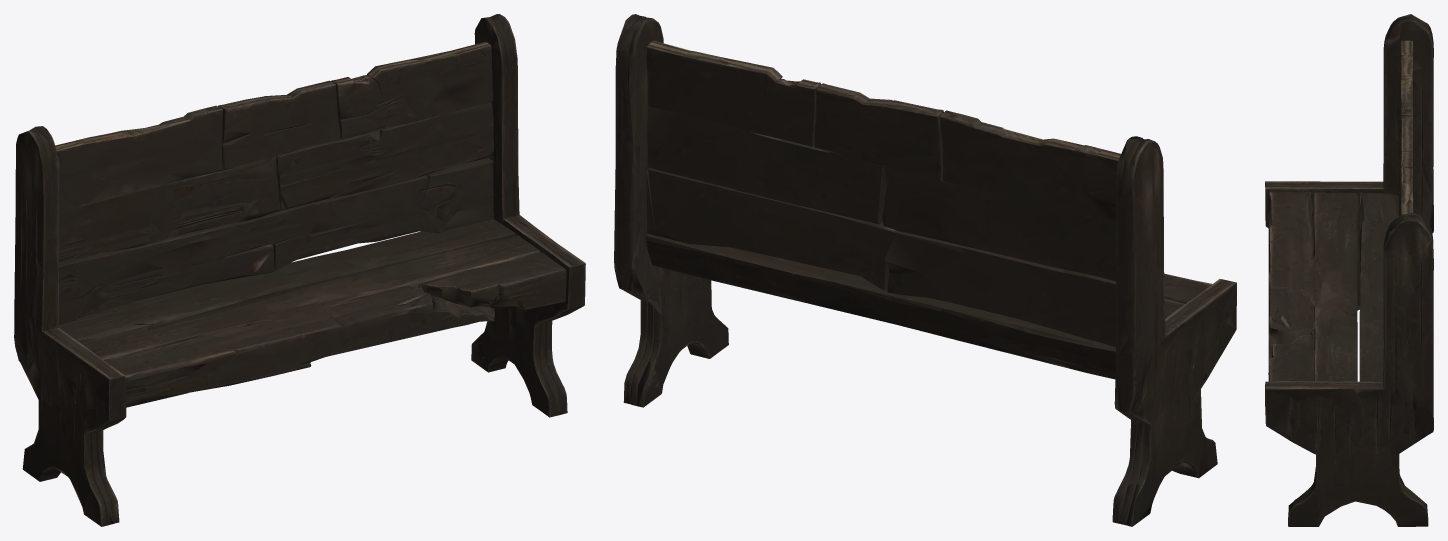
The model's file is mx_pr_broken_pew.glb.
3 views of the same model, side by side, from view 1: azimuth 30°, elevation 25°; view 2: azimuth 150°, elevation 25°; view 3: azimuth 270°, elevation 25° (orthographic). The views are drawn at different scales.
Bounding box in the file's own units: 1.9 × 1.32 × 0.6537.
Materials: 1 (1 with a texture image).
